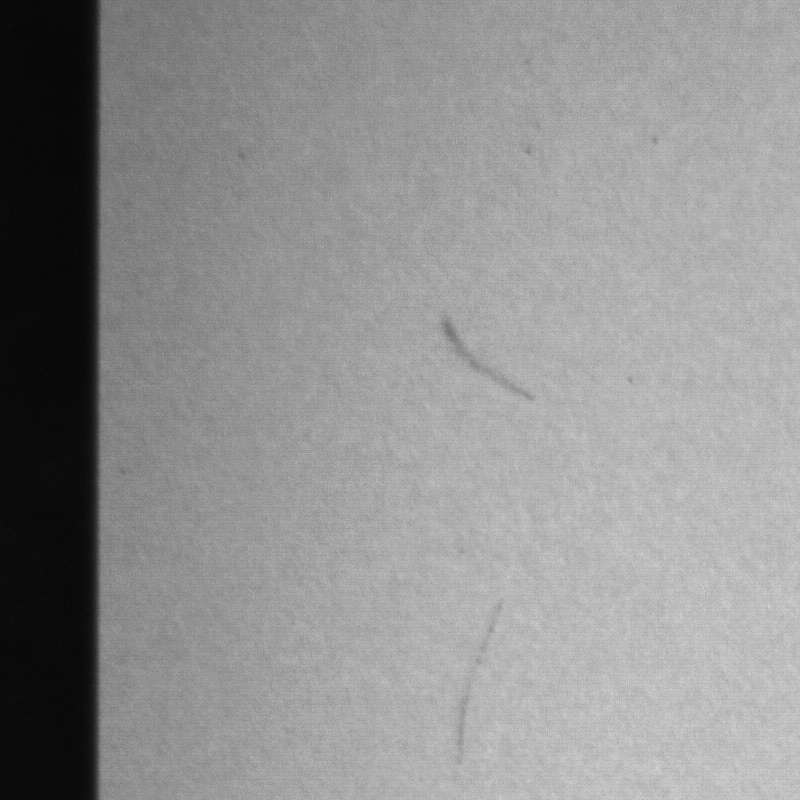defect: (454, 604, 501, 767), (446, 319, 534, 400), (523, 121, 542, 160), (236, 148, 251, 168)
